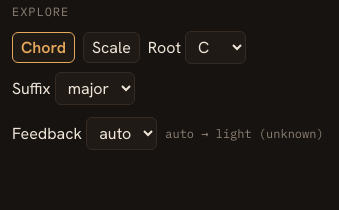
Test: CoachColumn — explore mode (existing ExplorePanel controls) › voicing pager steps through the real store voicings (1/2 → 2/2) — migrated from ExplorePanel.test
Select "A" in the dropdown with test id "explore-root": (216, 48) [185,31,246,64]
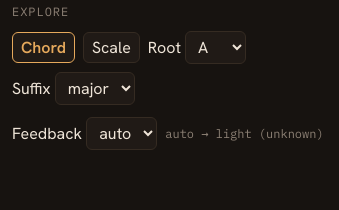
Select "minor" in the dropdown with test id "explore-suffix": (95, 88) [55,72,135,105]
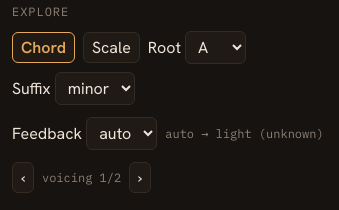
expect the text with test id "explore-voicing-label" shows "1/2": met, box [42,170,121,185]
Click the button with test id "explore-voicing-next": (140, 178) [129,162,151,193]
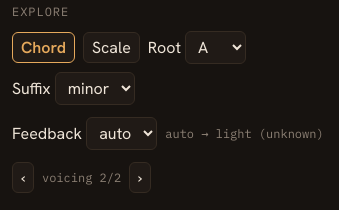
expect the text with test id "explore-voicing-label" shows "2/2": met, box [42,170,121,185]
